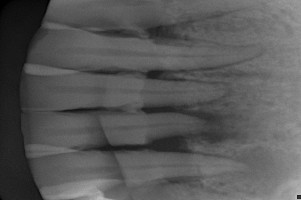Furcation Involvement: (221, 144, 301, 196), (173, 108, 248, 143)
